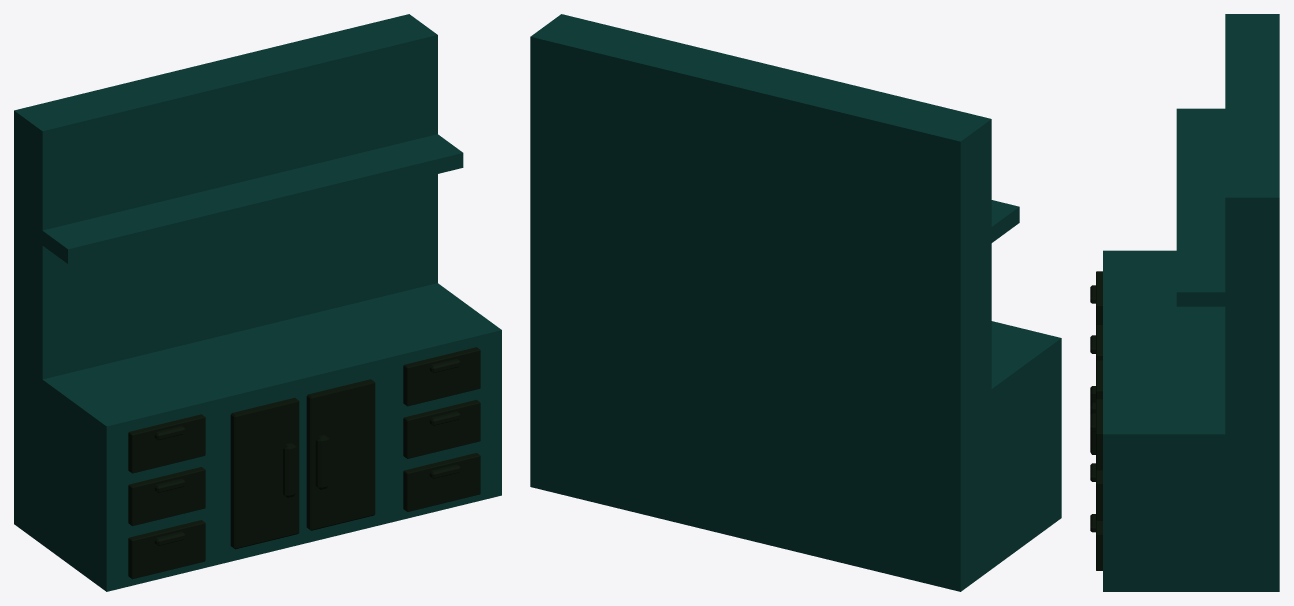
File: Wall.fbx
3 views of the same model, side by side, from view 1: azimuth 30°, elevation 25°; view 2: azimuth 150°, elevation 25°; view 3: azimuth 270°, elevation 25° (orthographic). The views are drawn at different scales.
Visible parts, largest first — view 1: Wall1; view 2: Wall1; view 3: Wall1.
Part boxes in pixels (<box>): Wall1: <box>14,14,501,591</box>; Wall1: <box>530,14,1061,591</box>; Wall1: <box>1090,14,1279,591</box>.
Bounding box in the file's own units: 2 × 2 × 0.8702.
